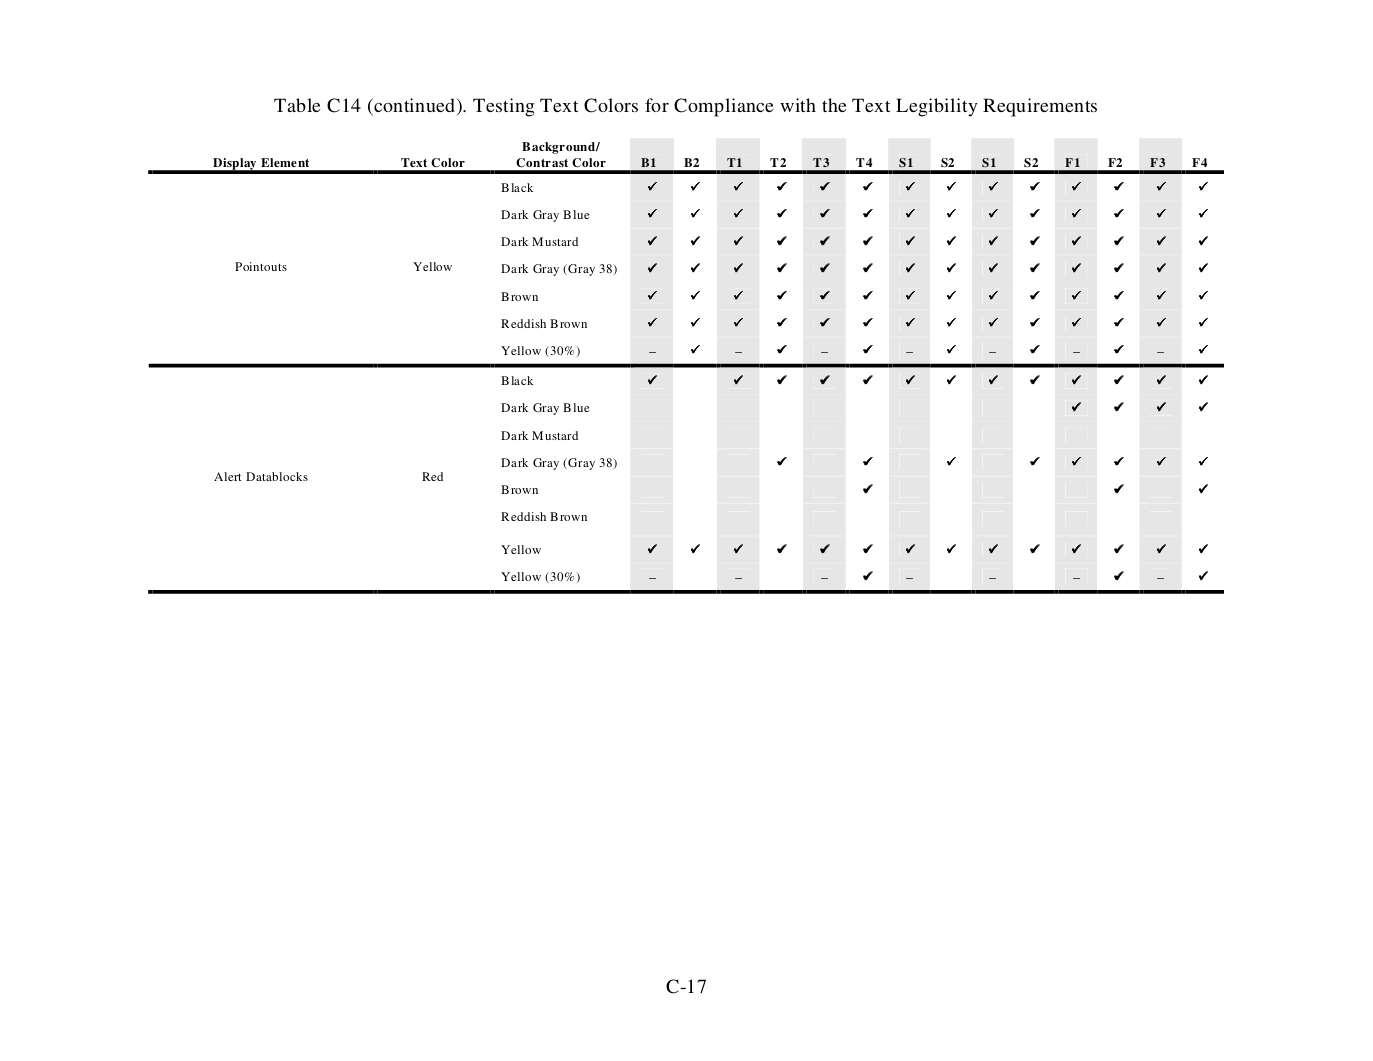Table: (148, 137, 1223, 594)
